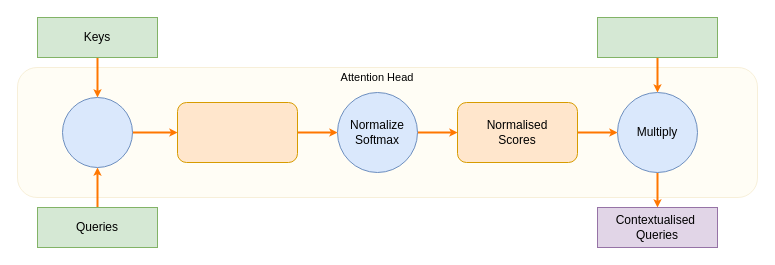
This 775x265 diagram has some shape labels left out. The centre of each missing label's shape, as x and y in pixels:
"Scaled Dot Similarity" belongs at pixel 97 132.
"Scores" belongs at pixel 237 132.
"Values" belongs at pixel 657 37.
